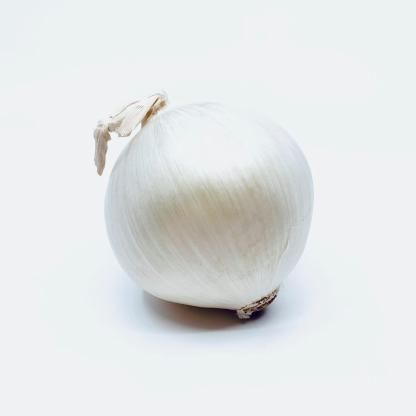onion: (85, 95, 333, 345)
